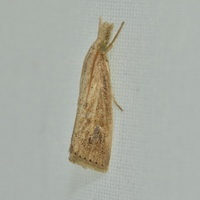insect: (69, 17, 123, 171)
